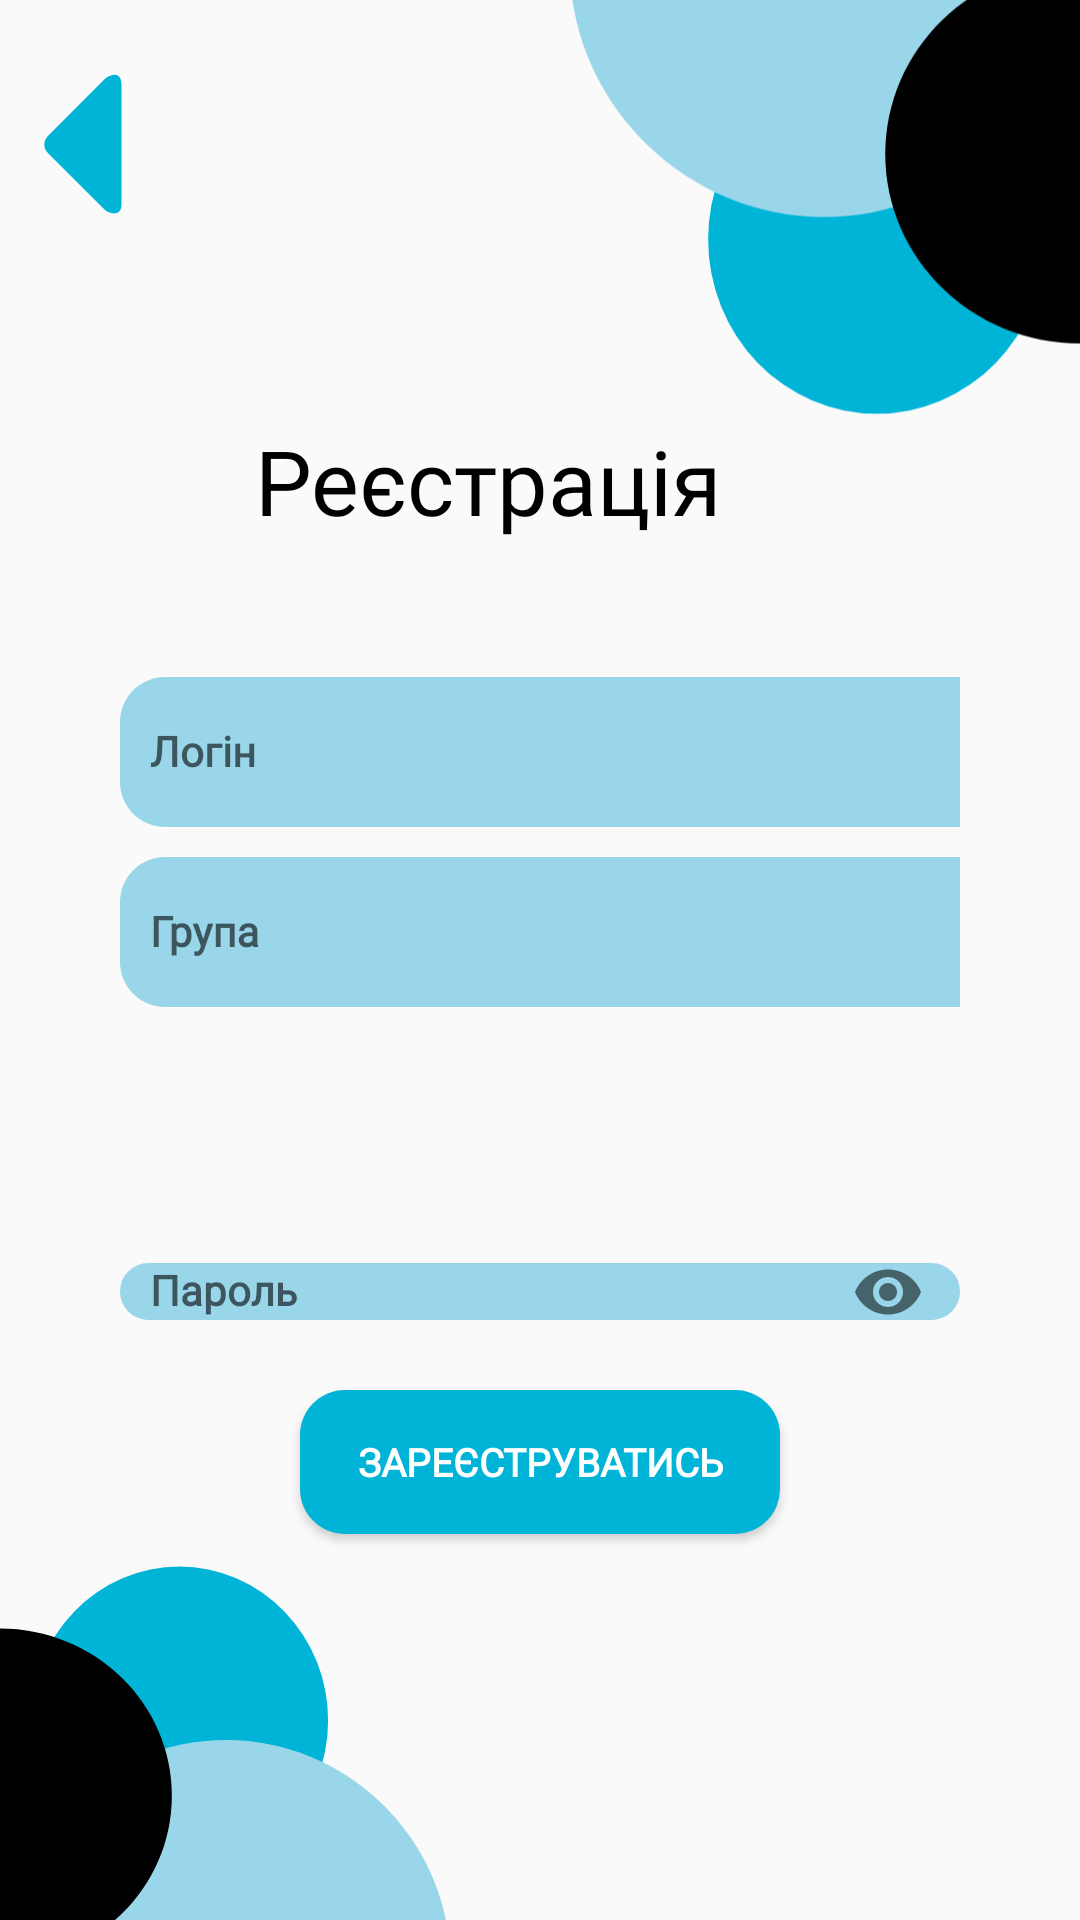

Named icons in this screenshot (1080px×1920px) and their bounding boxes, rect(x1, y1, x2, y2):
back: rect(44, 74, 122, 214)
